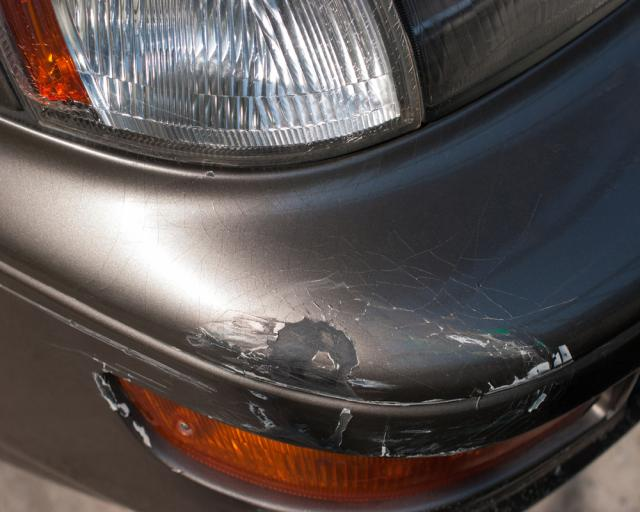scratch: (68, 290, 588, 459)
